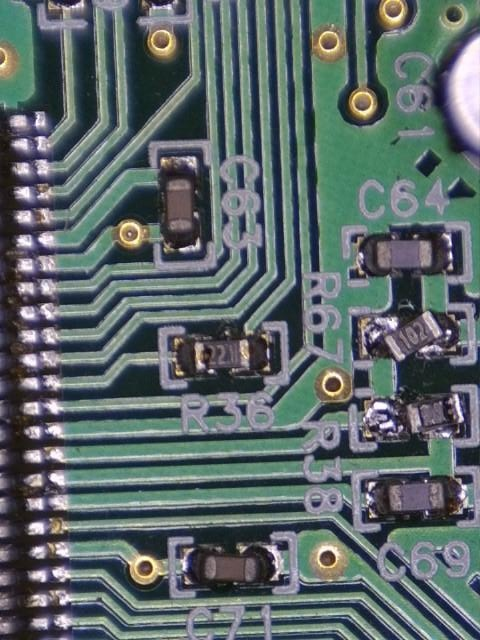pcb_defect: (364, 391, 472, 442), (360, 309, 460, 363), (181, 543, 285, 585)
